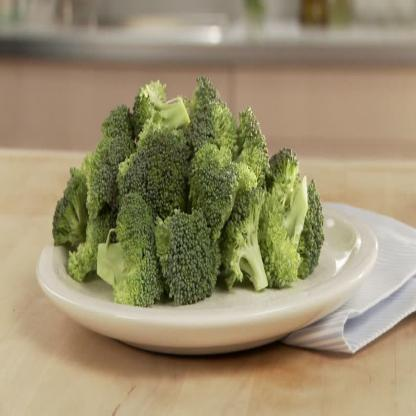broccoli: (51, 74, 326, 308)
